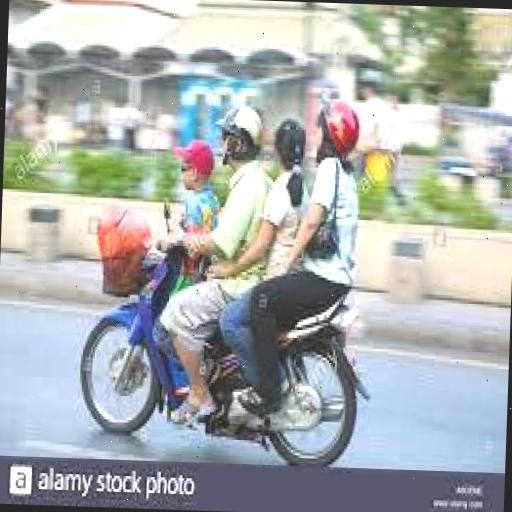helmet: (202, 98, 272, 200)
triple riding: (64, 80, 382, 466)
